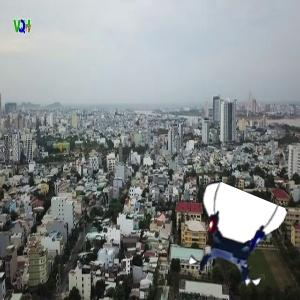drone: (187, 192, 283, 288)
